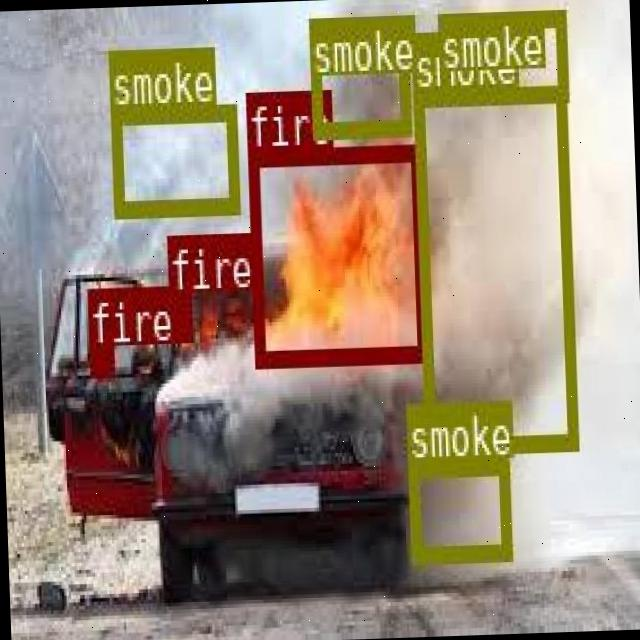fire: (245, 140, 425, 362), (166, 292, 188, 338), (86, 345, 112, 372)
smoke: (411, 81, 576, 452), (110, 102, 238, 215), (436, 7, 566, 102), (308, 14, 410, 134), (407, 457, 508, 560)
